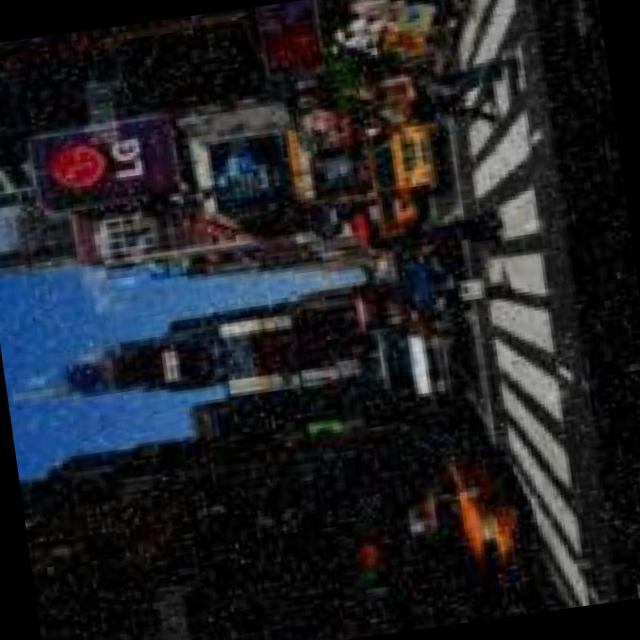zebra: (419, 0, 628, 617)
